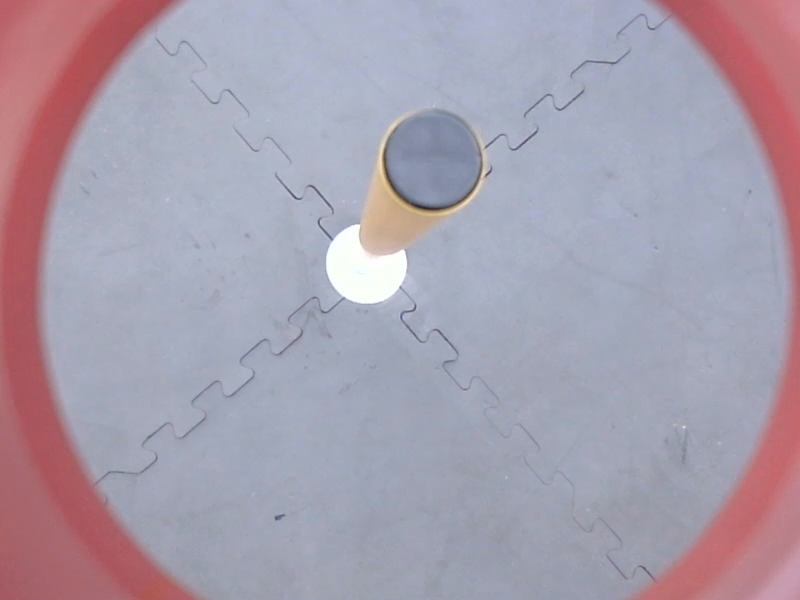tip: (372, 101, 493, 218)
